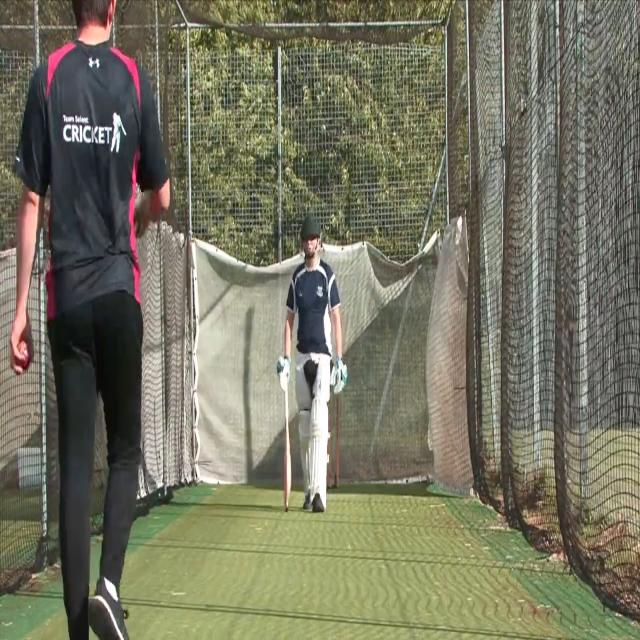batsman: (275, 212, 349, 516)
